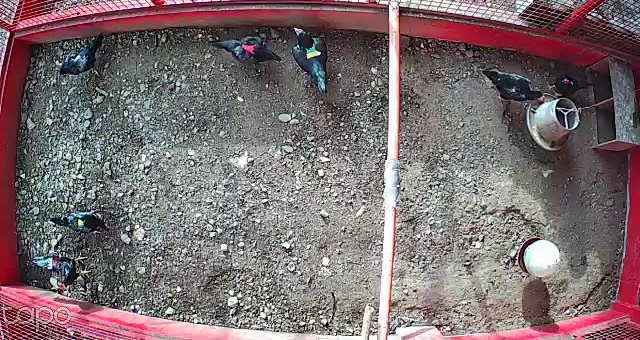Chicken: (287, 24, 333, 96), (209, 29, 281, 71), (479, 66, 549, 109), (60, 32, 114, 84), (51, 209, 114, 240), (545, 76, 593, 101)
Rooster: (26, 245, 95, 295)
Saddle_Color_Red: (239, 39, 256, 55)
Saddle_Color_Yellow: (77, 217, 85, 228)
Saddle_Color_YellowGreen: (302, 45, 322, 59)
